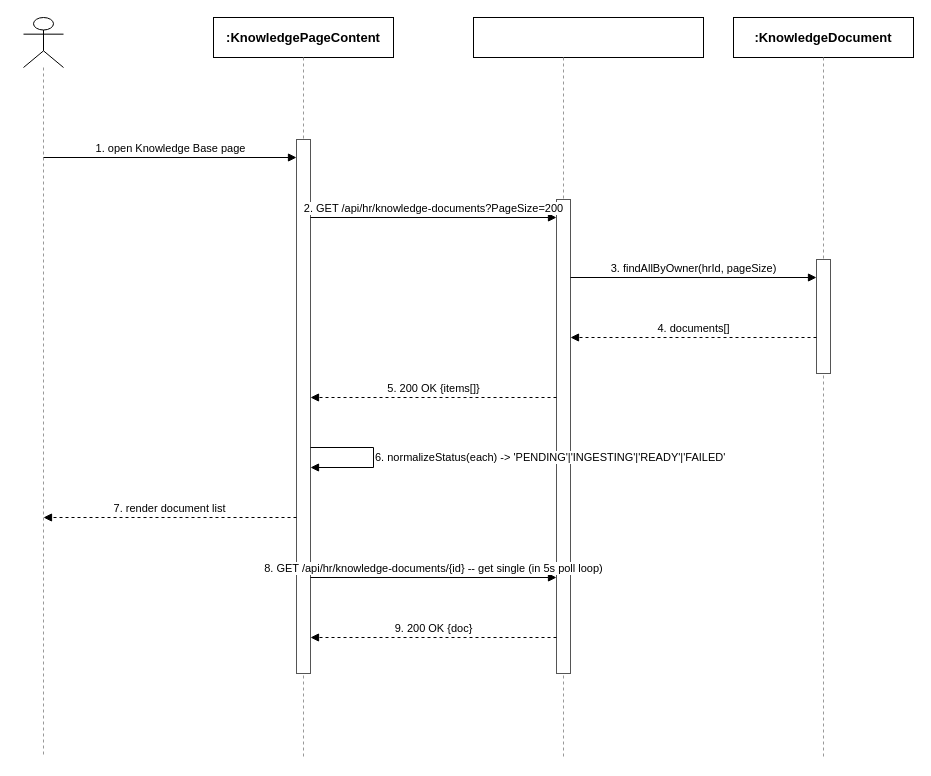
Image size: 931x776. Some labels were removed from this diagram. Each missing label, with the box of its shape:
:KnowledgeDocumentsController: (472, 16, 704, 58)
HR Manager: (22, 16, 64, 68)
